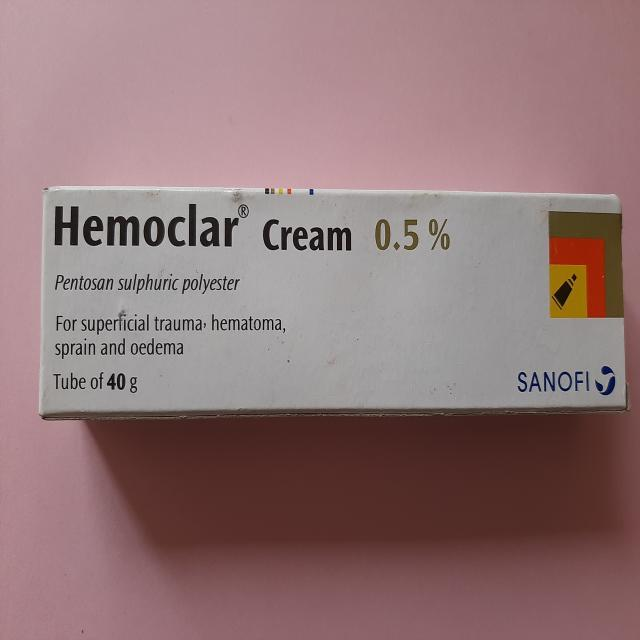Medicine Name: (48, 196, 241, 263)
